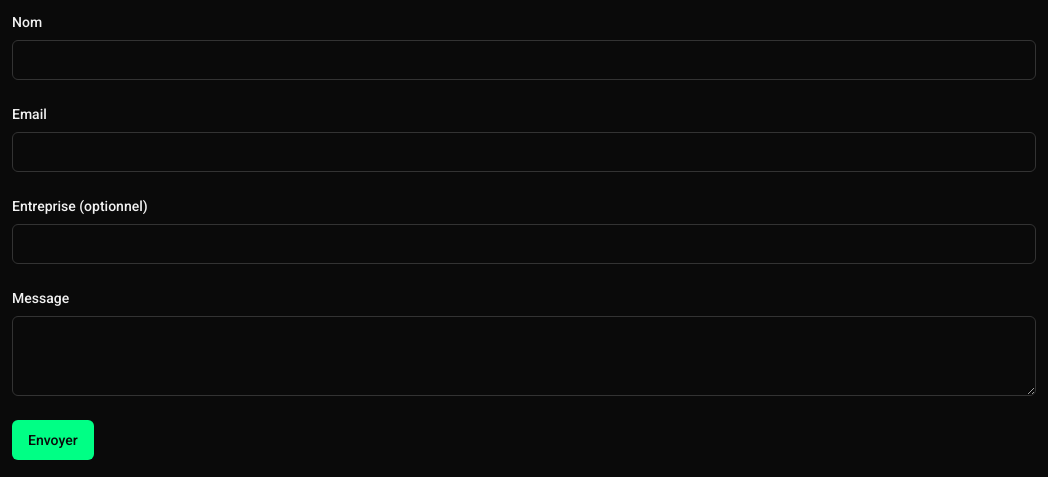
Test: ContactForm Component › shows loading state during submission
The width and height of the screenshot is (1048, 477).
Remplir le formulaire avec des données valides
Type "John Doe" into the field labelled "Nom" at (524, 60), box top-left (12, 40), bottom-right (1036, 80)
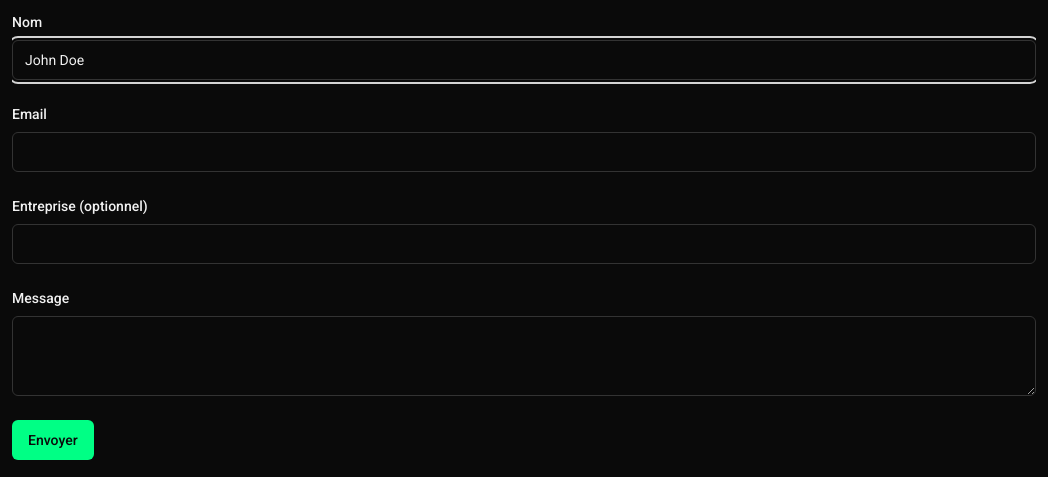
Type "john@example.com" into the field labelled "Email" at (524, 152), box top-left (12, 132), bottom-right (1036, 172)
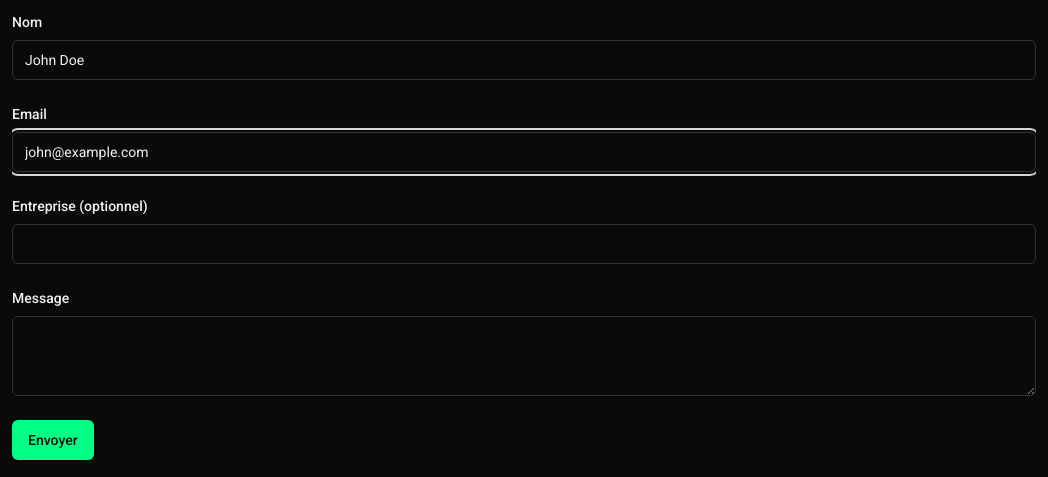
Type "Test message" into the text box labelled "Message" at (524, 356), box top-left (12, 316), bottom-right (1036, 396)
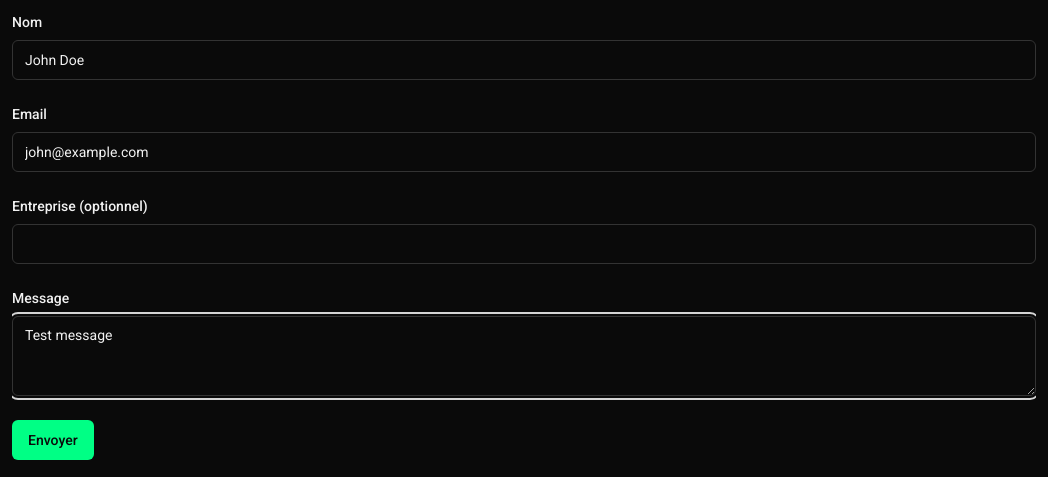
Simuler la soumission
Submit the form
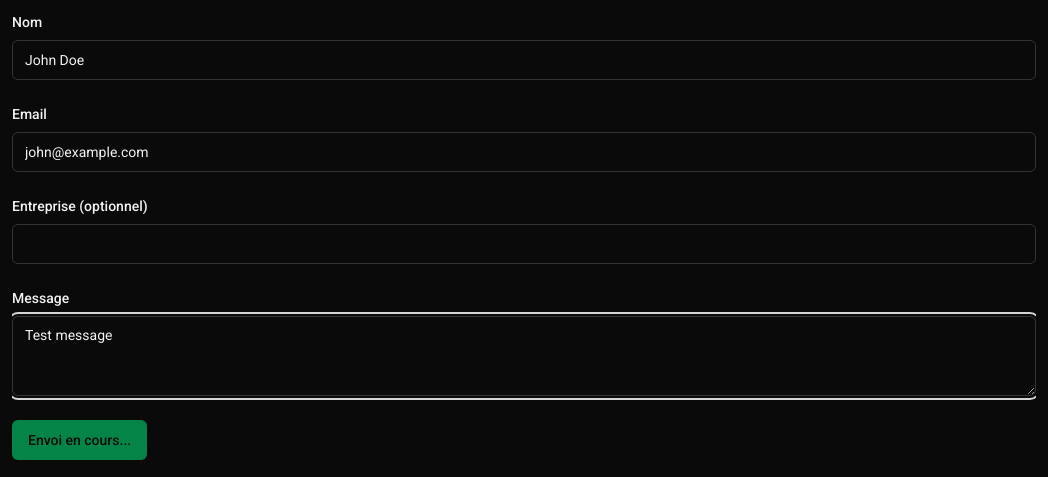
Expected: the button is disabled, top-left (12, 420), bottom-right (147, 460)
Expected: the button shows "Envoi en cours", top-left (12, 420), bottom-right (147, 460)
